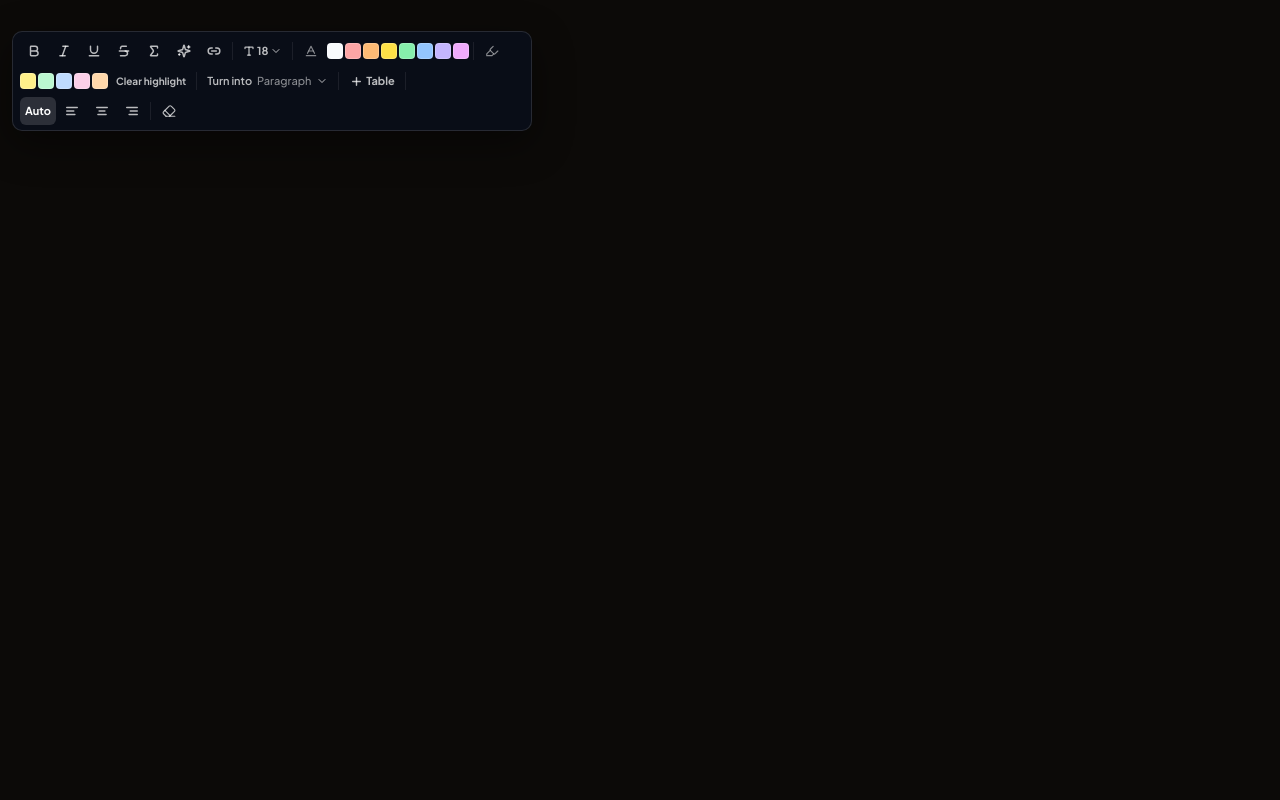
Test: Explain panel UI › renders loading then success without mutating the document
Press the mouse on the button named "Explain · Beta" at x=184, y=51, box [170,37,198,65]
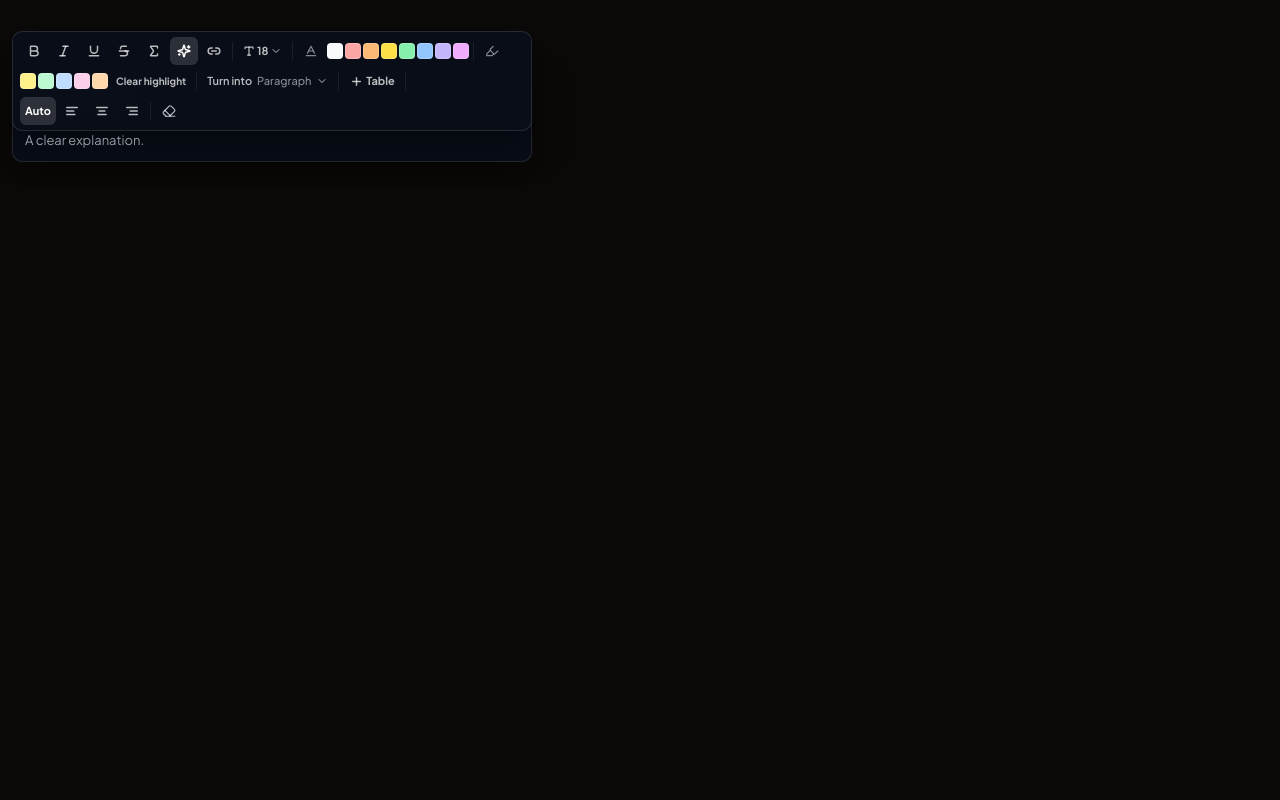
Check: the element showing "A clear explanation." is shown, box [25,132,144,148]
